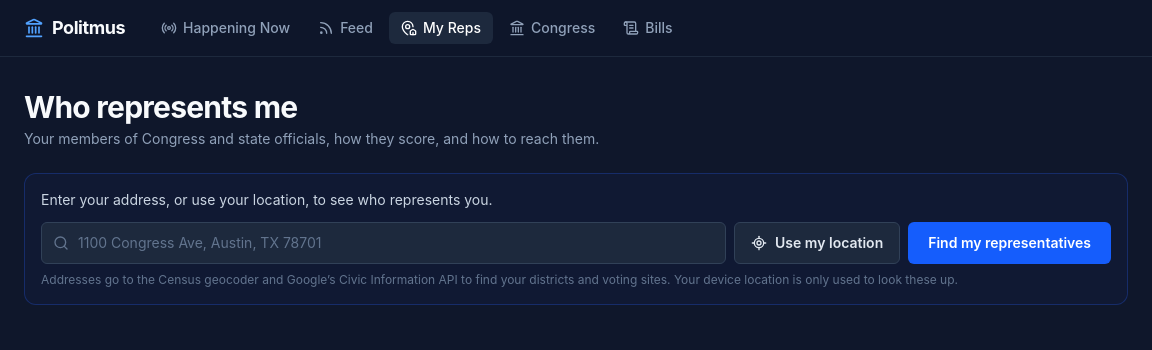
device location › shows a message and makes no lookup when permission is denied
The image size is (1152, 350).
Click the button "Use my location".
click(817, 243)  # box x1=734 y1=222 x2=900 y2=264
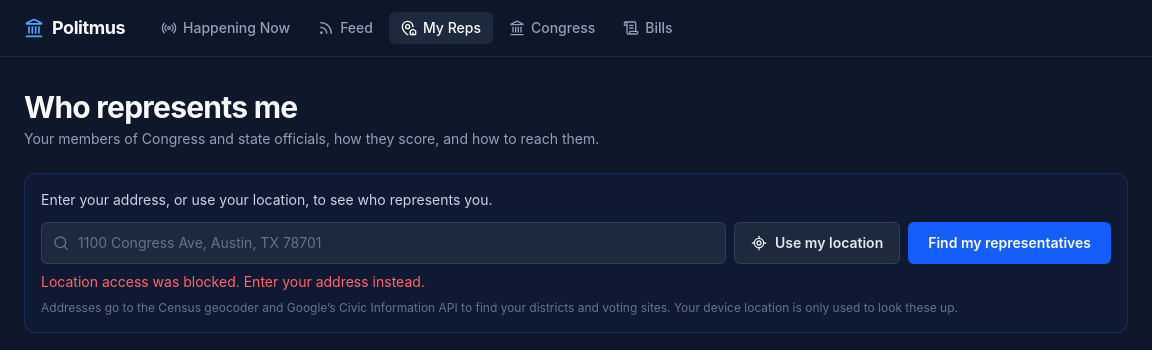
Result: the text "Location access was blocked. Enter your address instead." is shown at x1=41 y1=273 x2=425 y2=290
